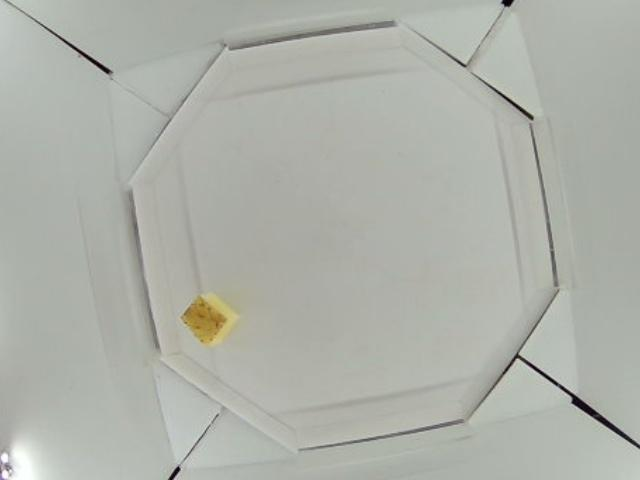Potato: (180, 289, 237, 346)
